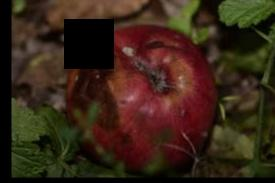rotten apple: (66, 18, 223, 171)
